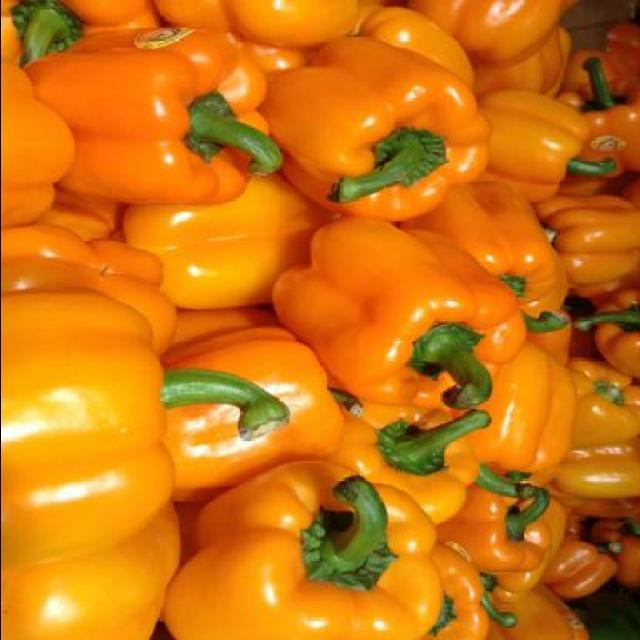Bell pepper: (2, 0, 640, 638)
